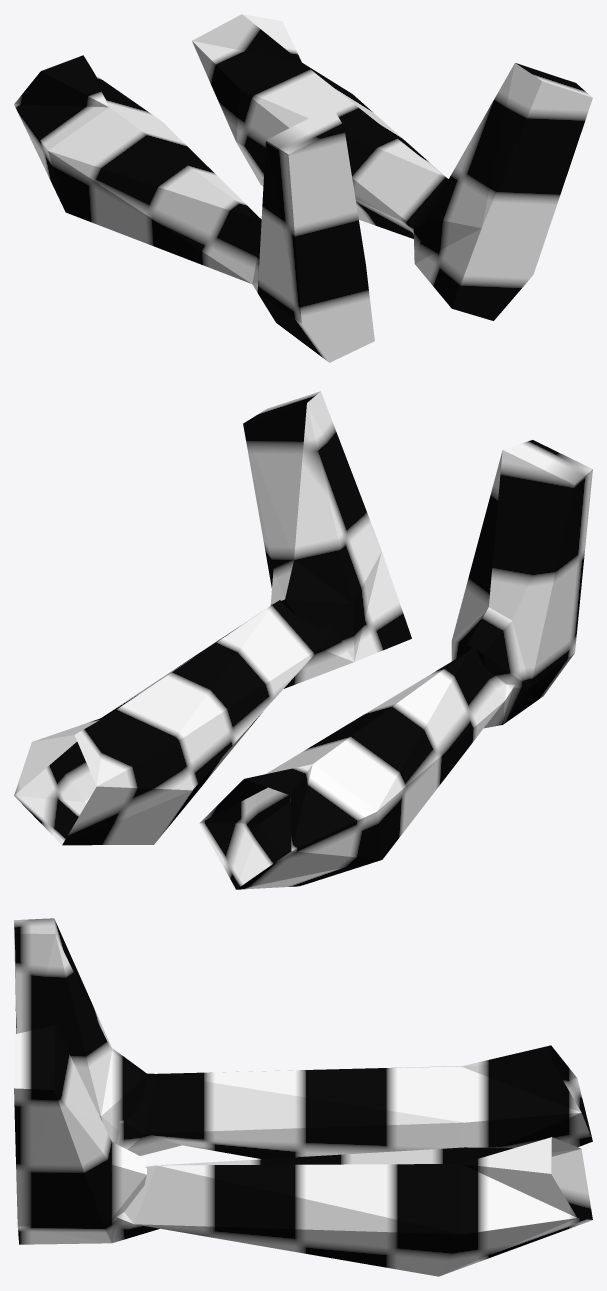
File: initarbt2.dae
3 views of the same model, one above another, from view 1: azimuth 30°, elevation 25°; view 2: azimuth 150°, elevation 25°; view 3: azimuth 270°, elevation 25° (orthographic). The views are drawn at different scales.
Visible parts, largest first — view 1: armor; view 2: armor; view 3: armor.
Part boxes in pixels (x1=…): armor: x1=14, y1=14, x2=592, y2=362; armor: x1=14, y1=391, x2=592, y2=889; armor: x1=14, y1=918, x2=592, y2=1276.
Bounding box in the file's own units: 1.04 × 1.58 × 0.7922.
Materials: 1 (1 with a texture image).
